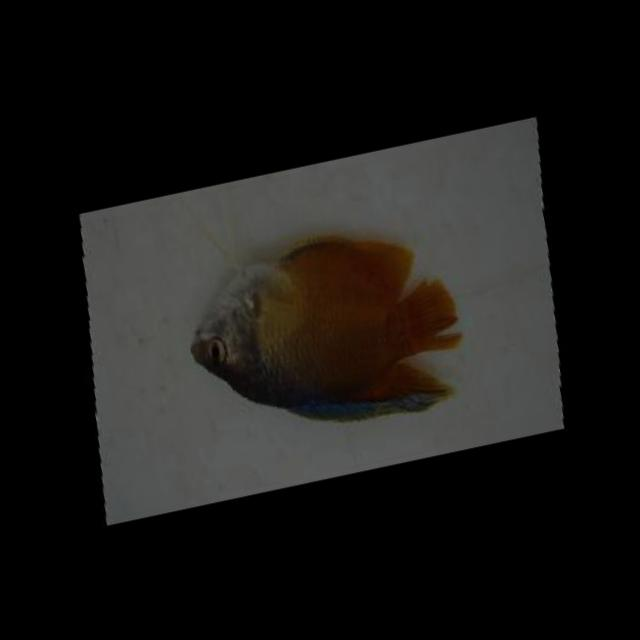Gourami: (169, 210, 481, 463)
